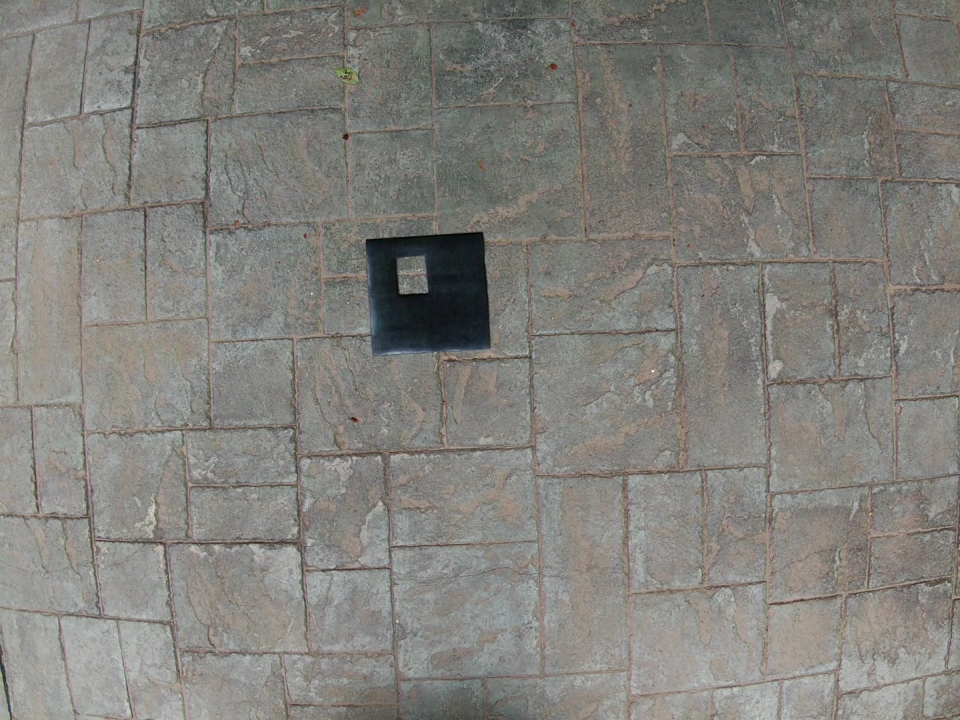qrcode: (365, 232, 489, 354)
